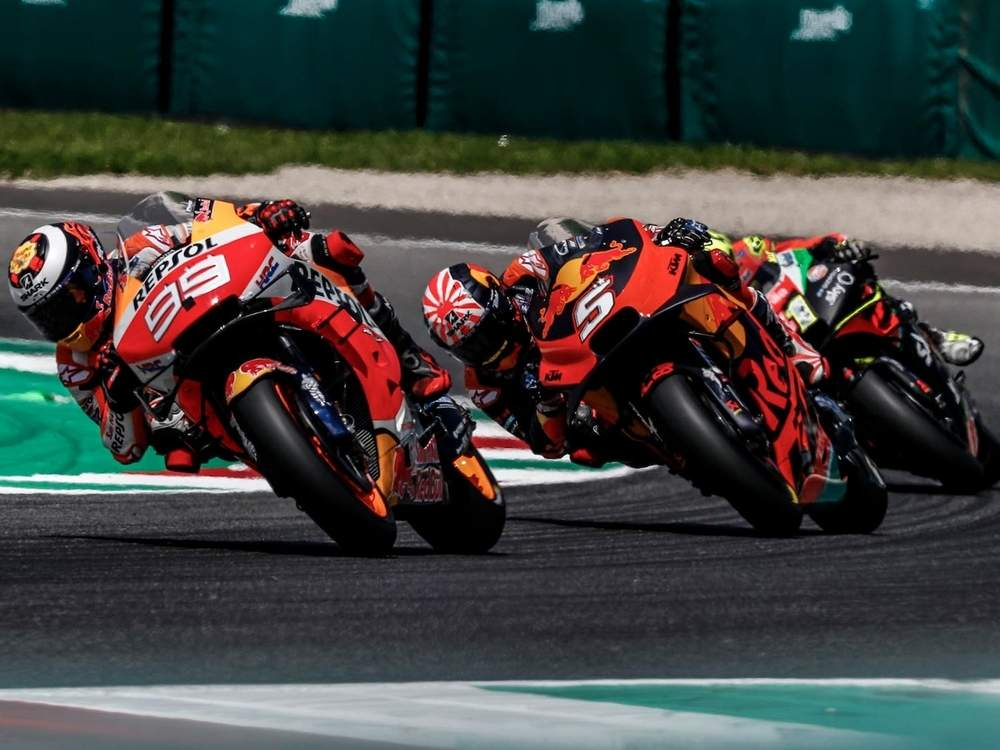helmet: (2, 208, 119, 364), (409, 240, 532, 374)
